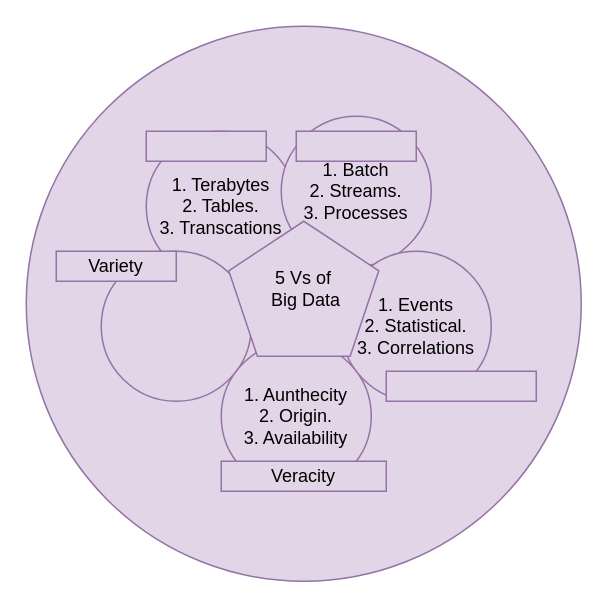
Image size: 608x608. Some labels were removed from this diagram. The shapes that lost their labels are listed below. From the top down, each one's box as (x1, y1, x2, y2) in pixels, then its label:
(145, 130, 266, 161): Volume
(295, 130, 416, 161): Veocity
(100, 250, 251, 401): 1. Structured 2. Unstructure 3. Multi-factor
(385, 370, 536, 401): Value
